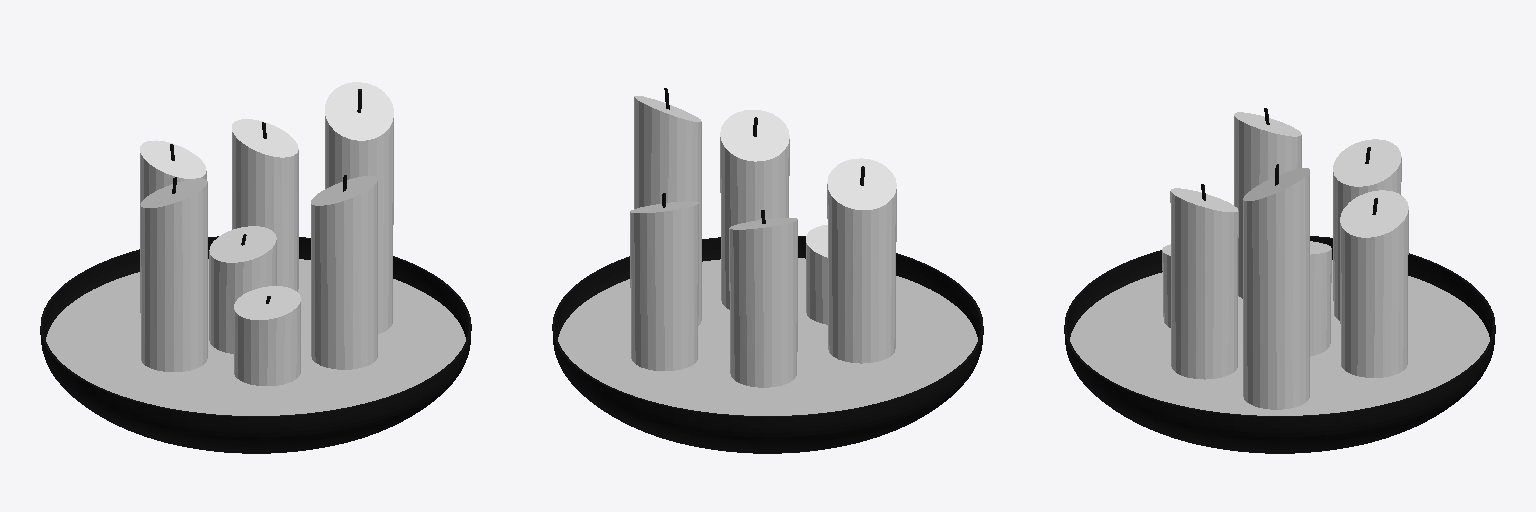
File: velas.obj
3 renders of one model, left to right at view 1: azimuth 30°, elevation 25°; view 2: azimuth 150°, elevation 25°; view 3: azimuth 270°, elevation 25°, orthographic.
Parts seen in each view (by area): view 1: Mesh2 Component_119_1 Model, Mesh1 bonsai1 skp6A5C1 Bonsai___Pot___Swiss_eform1 Model, Mesh8 Component_148_6 Model, Mesh6 Component_148_4 Model, Mesh4 Component_148_2 Model, Mesh3 Component_148_1 Model, Mesh7 Component_148_5 Model, Mesh5 Component_148_3 Model, Mesh9 Component_148_7 Model; view 2: Mesh2 Component_119_1 Model, Mesh1 bonsai1 skp6A5C1 Bonsai___Pot___Swiss_eform1 Model, Mesh8 Component_148_6 Model, Mesh3 Component_148_1 Model, Mesh9 Component_148_7 Model, Mesh6 Component_148_4 Model, Mesh4 Component_148_2 Model, Mesh7 Component_148_5 Model; view 3: Mesh2 Component_119_1 Model, Mesh1 bonsai1 skp6A5C1 Bonsai___Pot___Swiss_eform1 Model, Mesh4 Component_148_2 Model, Mesh6 Component_148_4 Model, Mesh3 Component_148_1 Model, Mesh8 Component_148_6 Model, Mesh9 Component_148_7 Model, Mesh5 Component_148_3 Model, Mesh7 Component_148_5 Model.
Boxes of the visible parts, <box> form: Mesh2 Component_119_1 Model: <box>46,259,465,415</box>; Mesh1 bonsai1 skp6A5C1 Bonsai___Pot___Swiss_eform1 Model: <box>40,236,471,453</box>; Mesh8 Component_148_6 Model: <box>140,177,207,371</box>; Mesh6 Component_148_4 Model: <box>311,175,377,369</box>; Mesh4 Component_148_2 Model: <box>325,82,393,333</box>; Mesh3 Component_148_1 Model: <box>232,119,298,291</box>; Mesh7 Component_148_5 Model: <box>234,286,300,385</box>; Mesh5 Component_148_3 Model: <box>209,226,276,353</box>; Mesh9 Component_148_7 Model: <box>140,140,206,312</box>; Mesh2 Component_119_1 Model: <box>558,258,977,415</box>; Mesh1 bonsai1 skp6A5C1 Bonsai___Pot___Swiss_eform1 Model: <box>552,236,983,453</box>; Mesh8 Component_148_6 Model: <box>827,158,896,363</box>; Mesh3 Component_148_1 Model: <box>630,193,698,370</box>; Mesh9 Component_148_7 Model: <box>729,210,797,387</box>; Mesh6 Component_148_4 Model: <box>720,110,789,309</box>; Mesh4 Component_148_2 Model: <box>634,88,701,325</box>; Mesh7 Component_148_5 Model: <box>806,225,827,324</box>; Mesh2 Component_119_1 Model: <box>1070,260,1489,415</box>; Mesh1 bonsai1 skp6A5C1 Bonsai___Pot___Swiss_eform1 Model: <box>1064,236,1495,453</box>; Mesh4 Component_148_2 Model: <box>1243,164,1309,409</box>; Mesh6 Component_148_4 Model: <box>1170,184,1238,379</box>; Mesh3 Component_148_1 Model: <box>1340,190,1408,377</box>; Mesh8 Component_148_6 Model: <box>1234,108,1301,298</box>; Mesh9 Component_148_7 Model: <box>1333,139,1401,320</box>; Mesh5 Component_148_3 Model: <box>1310,241,1331,356</box>; Mesh7 Component_148_5 Model: <box>1162,244,1170,327</box>.
Bounding box in the file's own units: 0.6554 × 0.4777 × 0.6554.